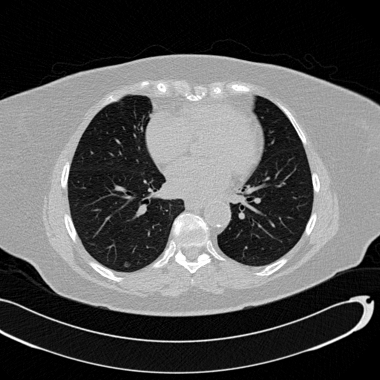nodule: (124, 263, 128, 267)
